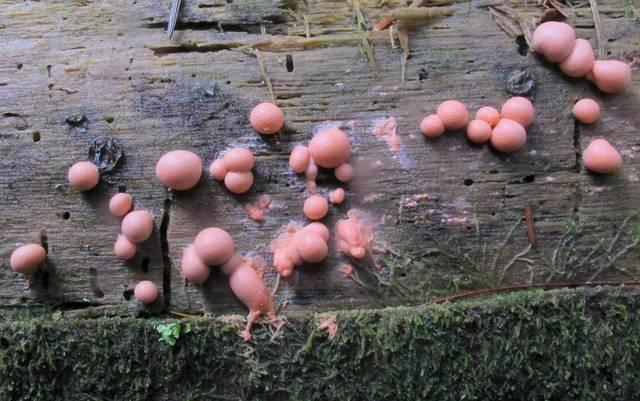poisonous_mushroom: (417, 35, 622, 161), (265, 185, 361, 286), (228, 261, 279, 341), (109, 185, 152, 263), (154, 148, 203, 191), (530, 19, 576, 62), (307, 127, 350, 168), (193, 226, 234, 266), (86, 134, 123, 174), (581, 137, 622, 173), (248, 101, 285, 135), (9, 242, 46, 276), (66, 160, 99, 192), (133, 279, 158, 304)
